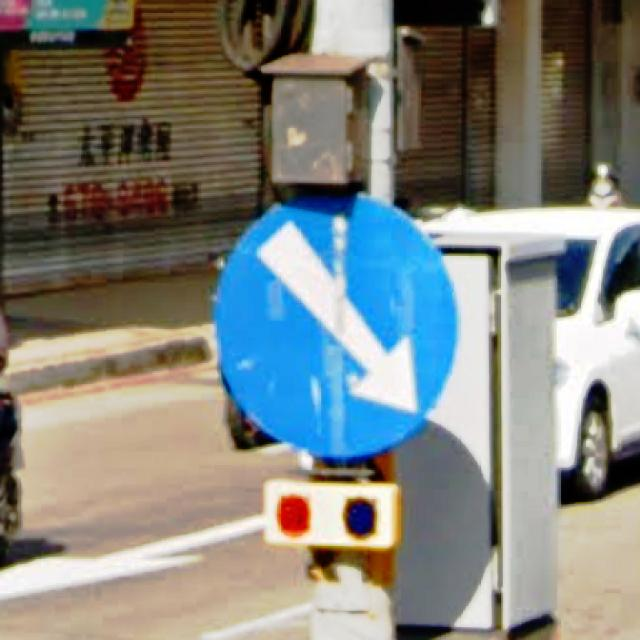thisway: (211, 188, 463, 462)
